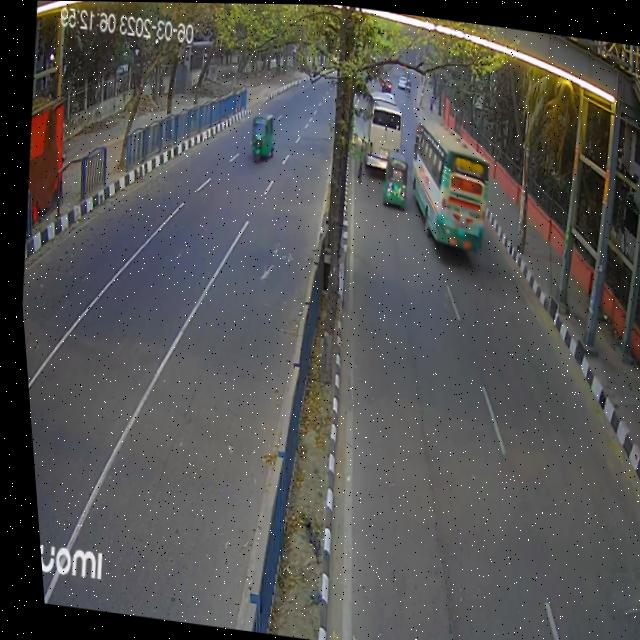cng: (377, 146, 410, 206), (243, 110, 275, 169)
